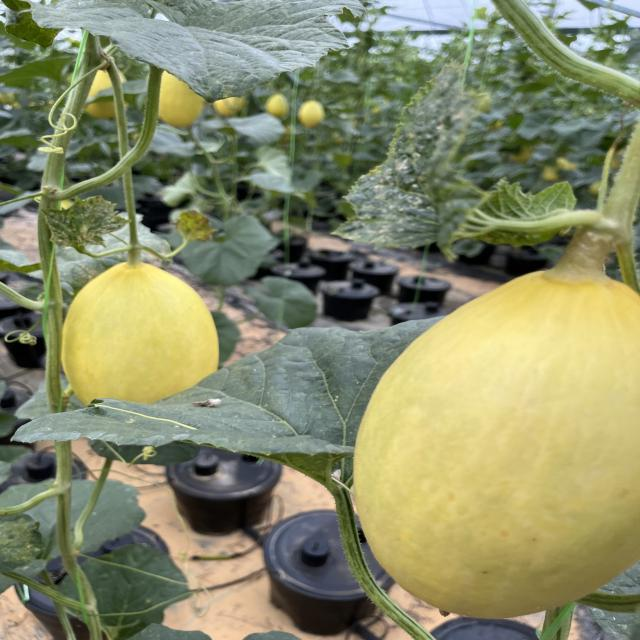CMV: (32, 187, 126, 258)
downy mildew: (4, 306, 430, 490)
